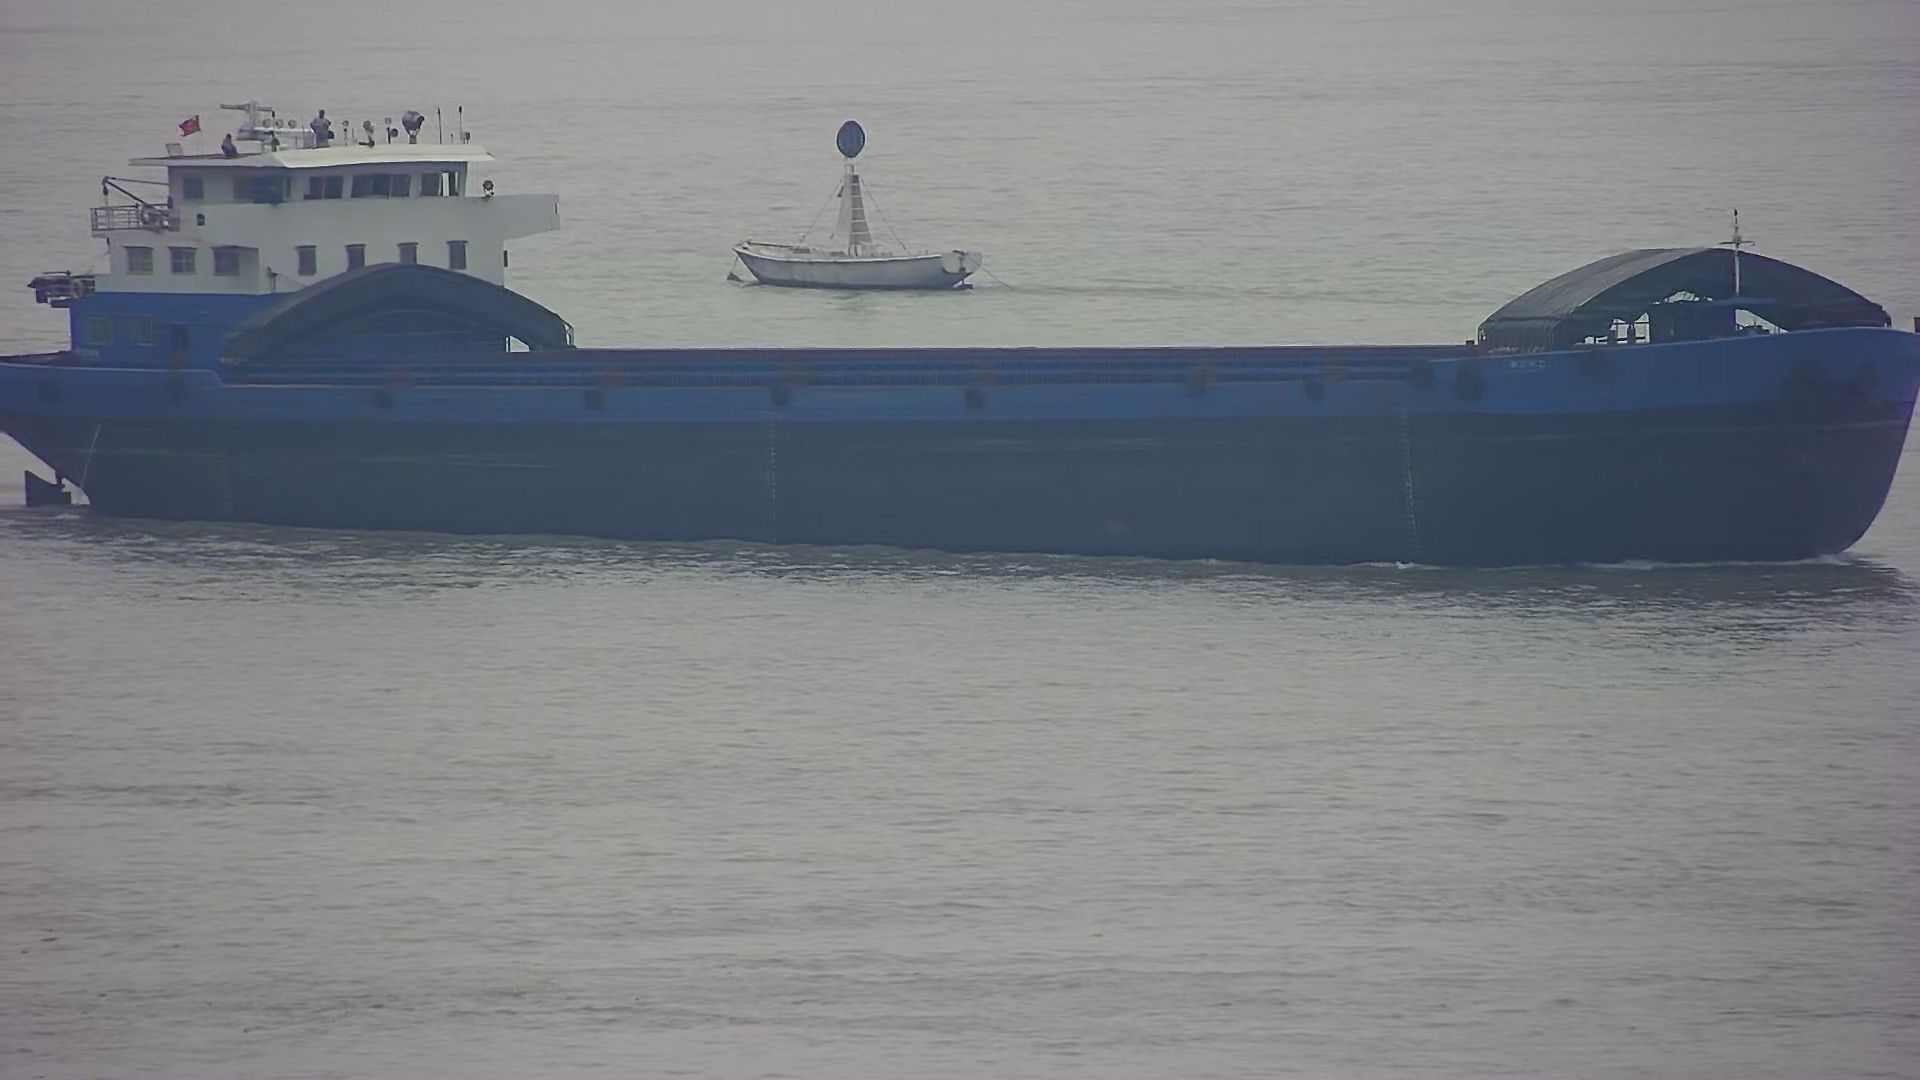boat: (727, 123, 986, 287)
ship: (1, 105, 1920, 568)
